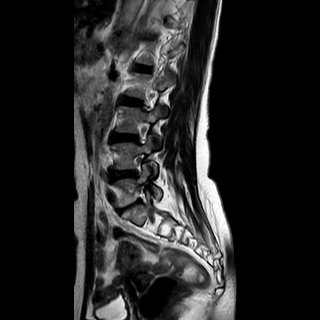LFS0: (133, 113, 154, 150)
